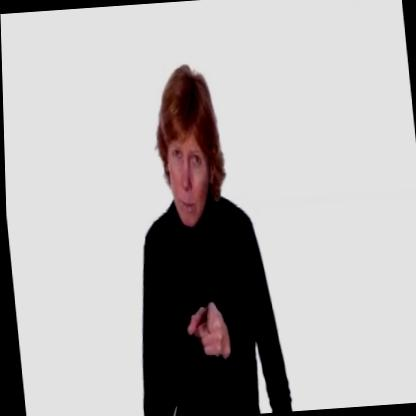HowAreYou: (166, 272, 235, 398)
